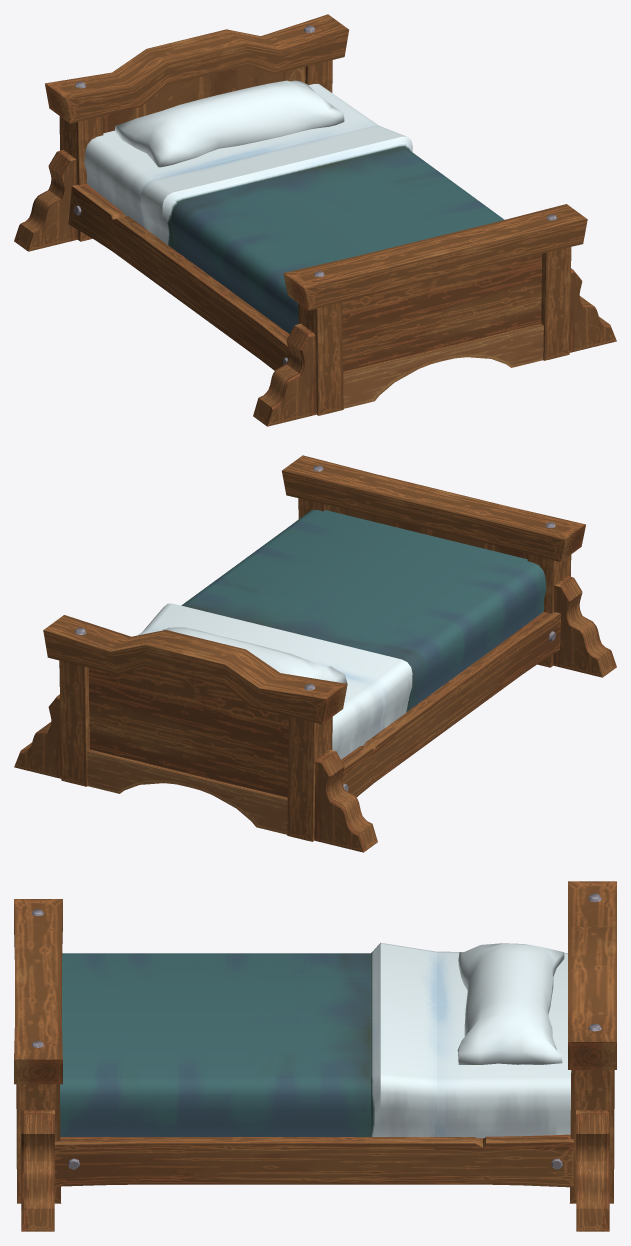
File: Bed_Twin1.gltf
3 renders of one model, top to bottom at view 1: azimuth 30°, elevation 25°; view 2: azimuth 150°, elevation 25°; view 3: azimuth 270°, elevation 25°, orthographic. The views are drawn at different scales.
Parts seen in each view (by area): view 1: Bed_Twin1; view 2: Bed_Twin1; view 3: Bed_Twin1.
Boxes of the visible parts, x1,y1,x2,y2 form: Bed_Twin1: (14,14,616,426); Bed_Twin1: (14,455,616,852); Bed_Twin1: (14,881,616,1231).
Bounding box in the file's own units: 1.88 × 0.8051 × 2.41.
3 materials, 3 textured.
